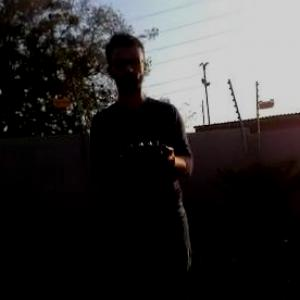follow: (87, 24, 204, 299)
